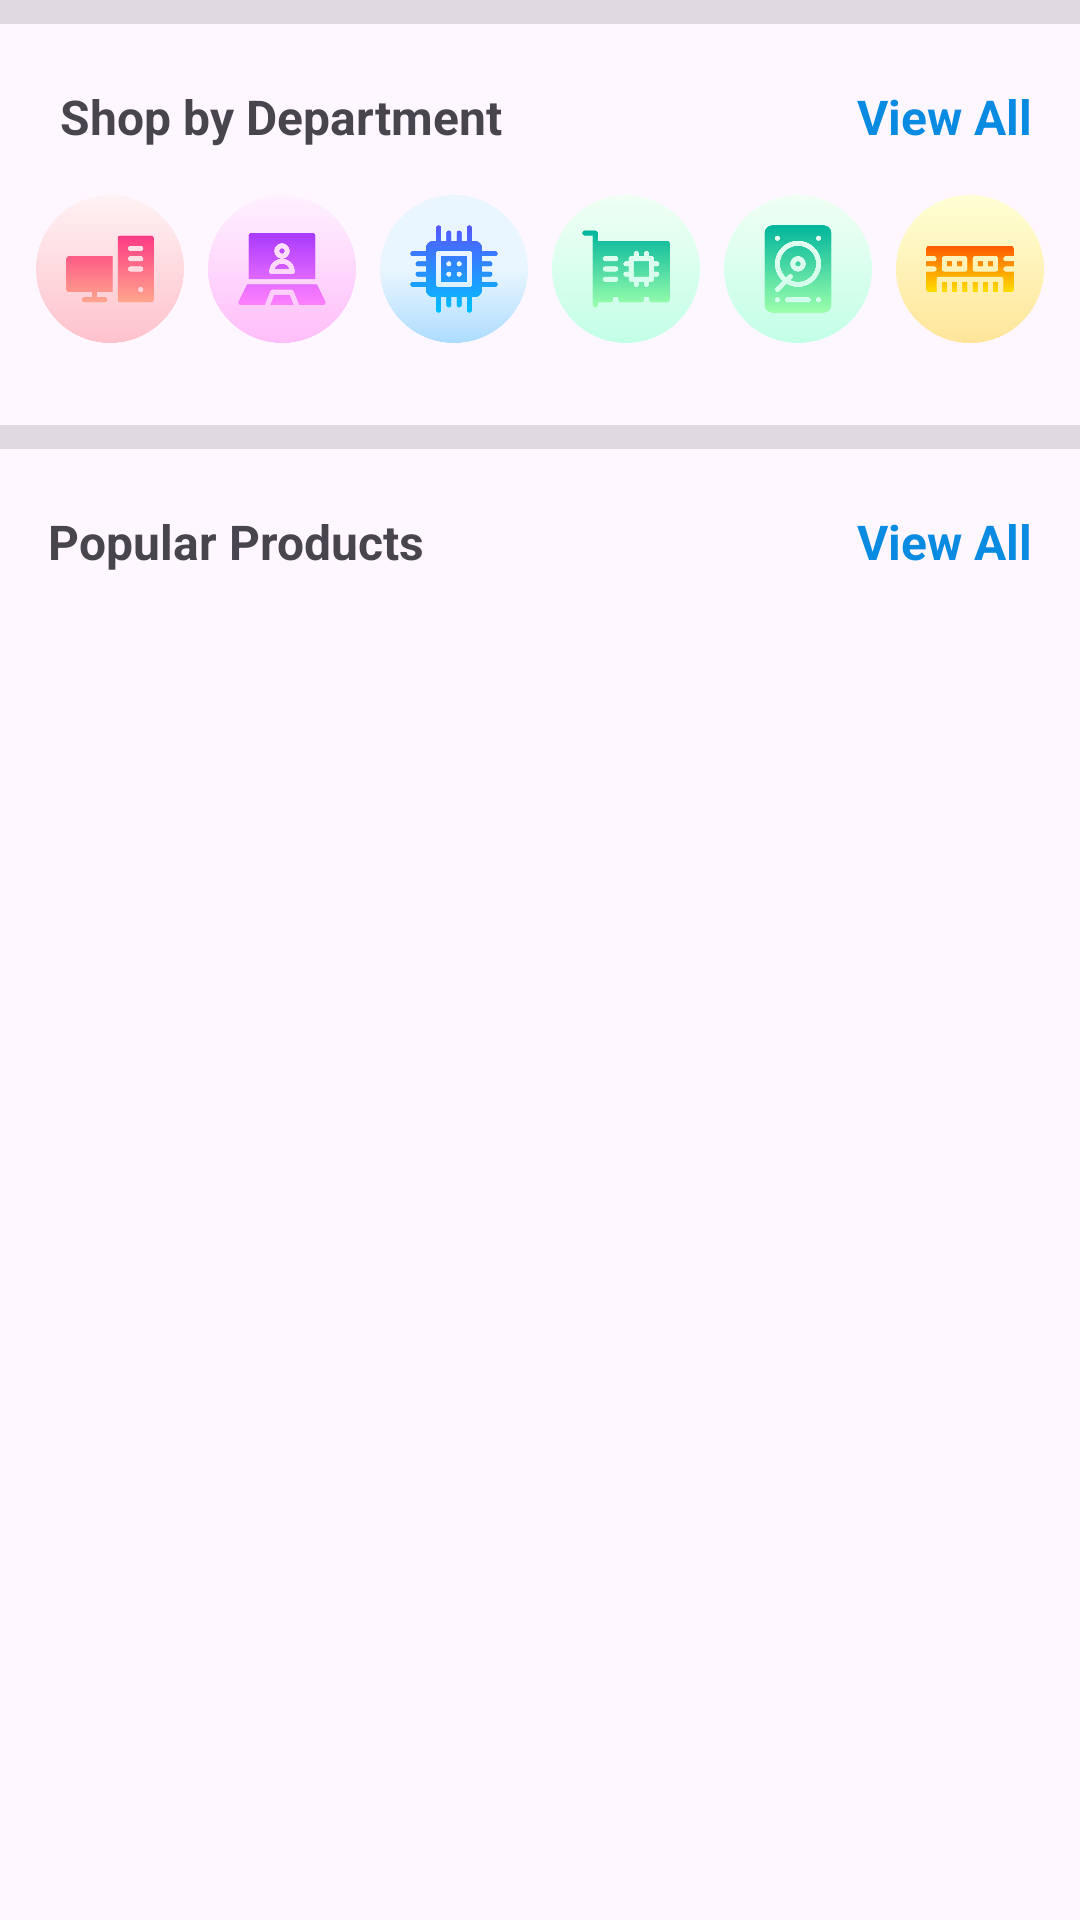

Point at icon controls on the screen. Image size 1080×1920, points as [x,y].
cpu: [454,284]
desktop: [110,289]
gpu: [626,286]
harddisk: [798,284]
laptop: [282,288]
ram: [970,269]
